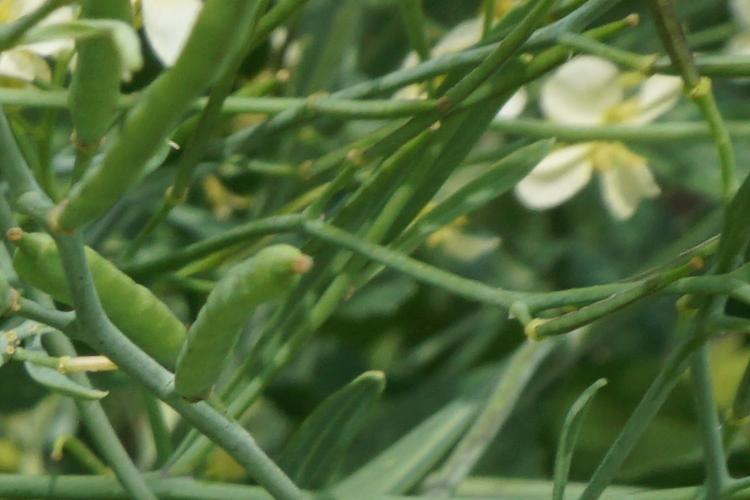pod: (188, 234, 340, 403), (11, 214, 193, 341), (532, 238, 707, 348)
